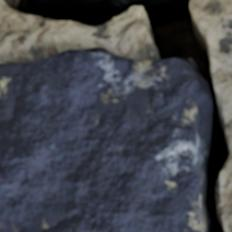brick: (0, 48, 212, 231)
crack: (0, 0, 231, 231)
